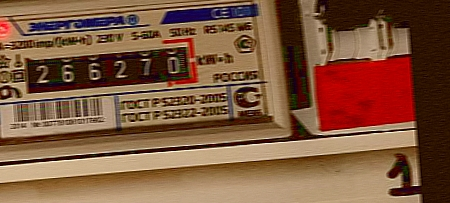0: (165, 54, 178, 75)
2: (33, 62, 49, 84), (112, 58, 126, 79)
6: (59, 62, 74, 83), (85, 60, 100, 80)
7: (137, 56, 152, 77)
screen: (13, 33, 204, 104)
